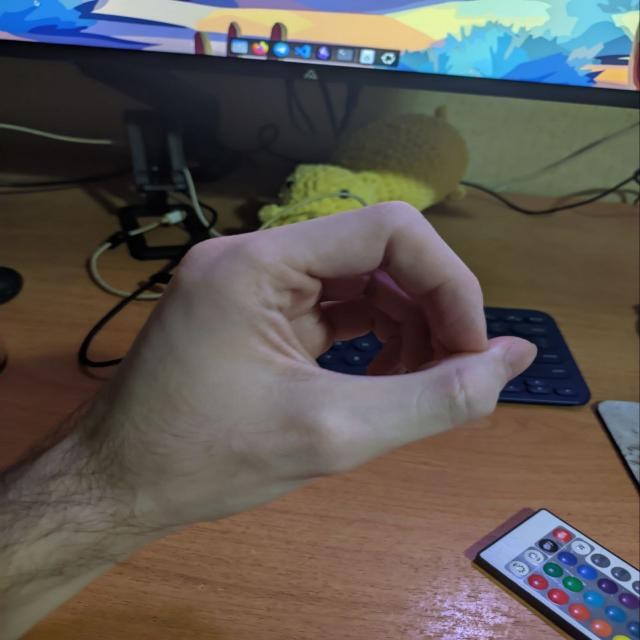e: (159, 172, 556, 472)
